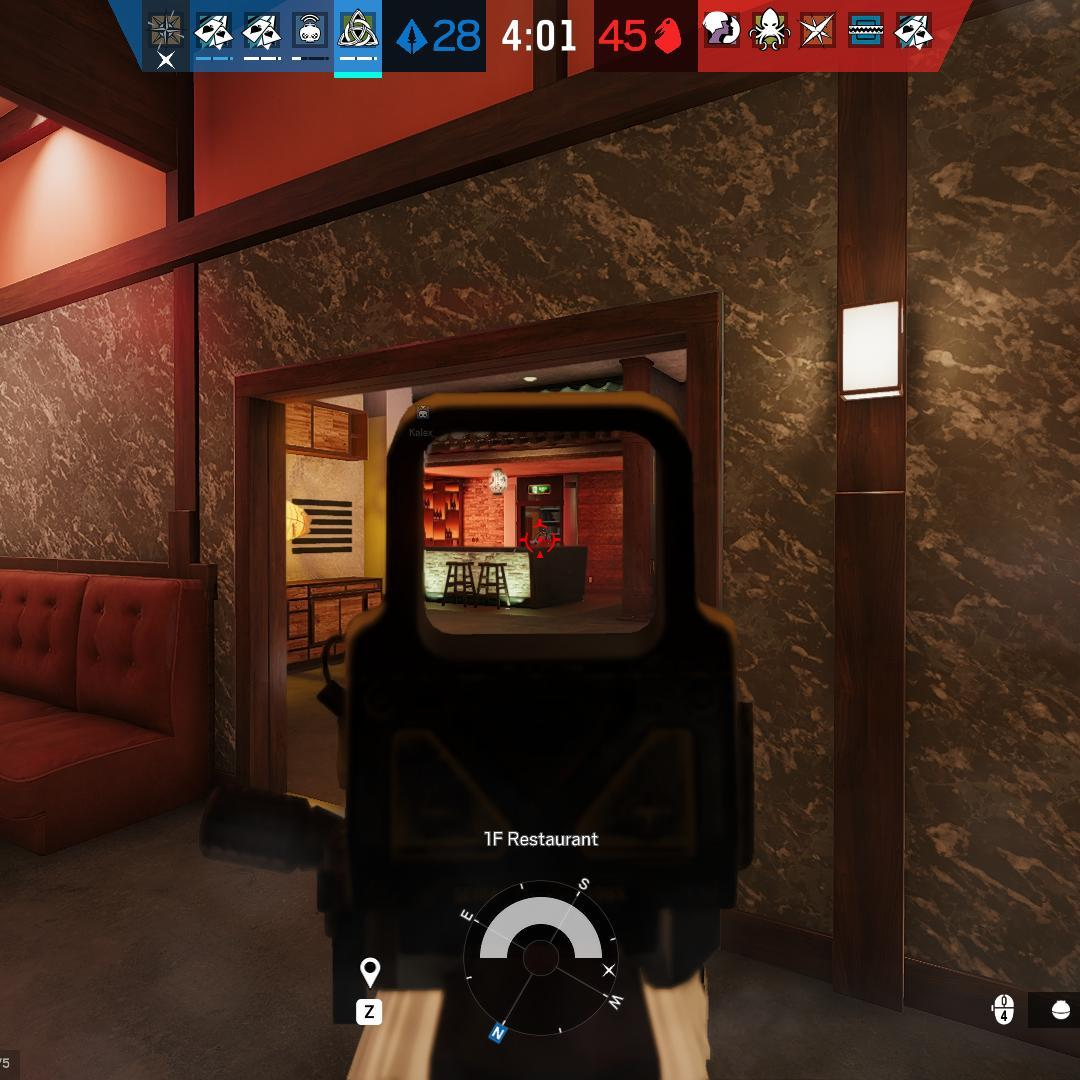Friend_label: (406, 401, 439, 438)
